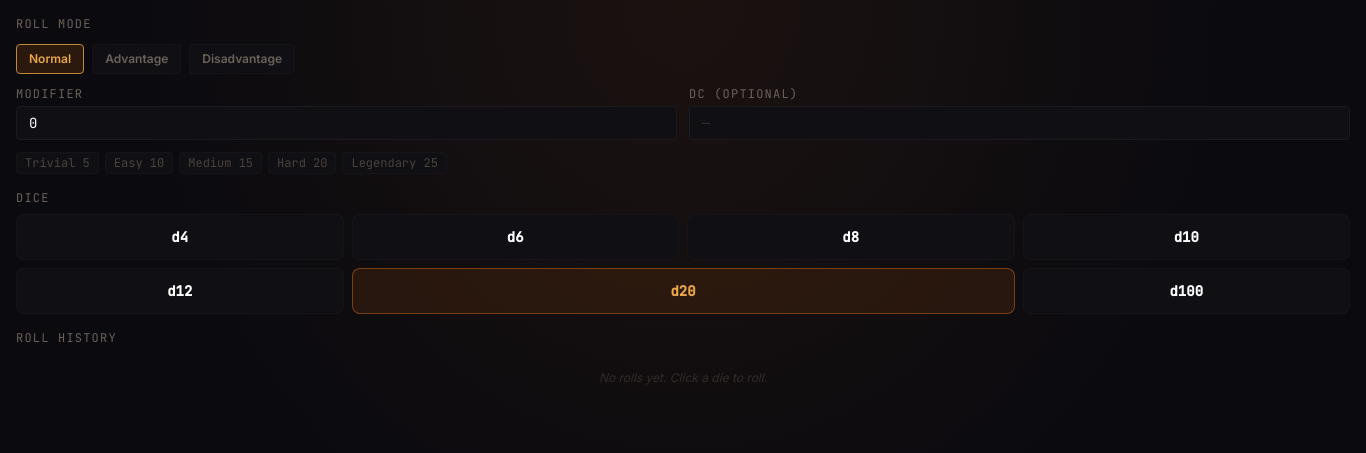
Test: DicePanel — rolling dice › shows the roll result with = total
Click the button "d20" at (683, 291), box [352,268,1014,314]
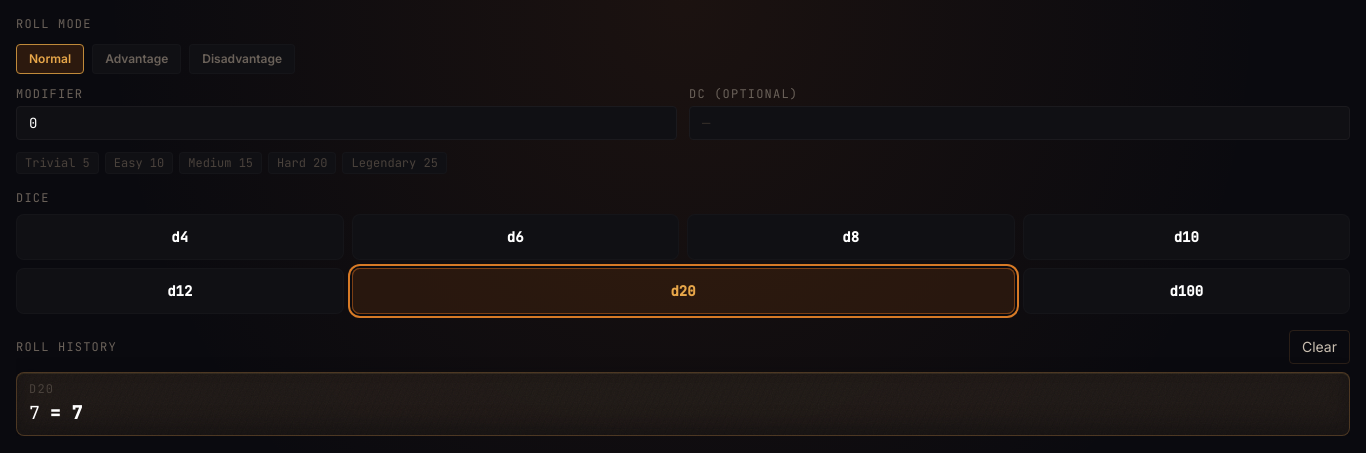
Result: the text "= 7" is shown at [50,399,82,427]
